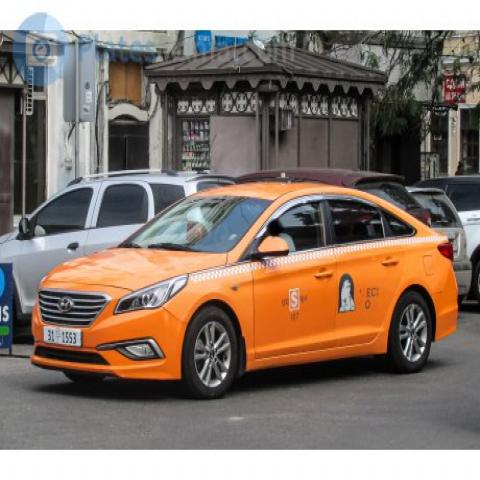LP: (42, 321, 86, 353)
